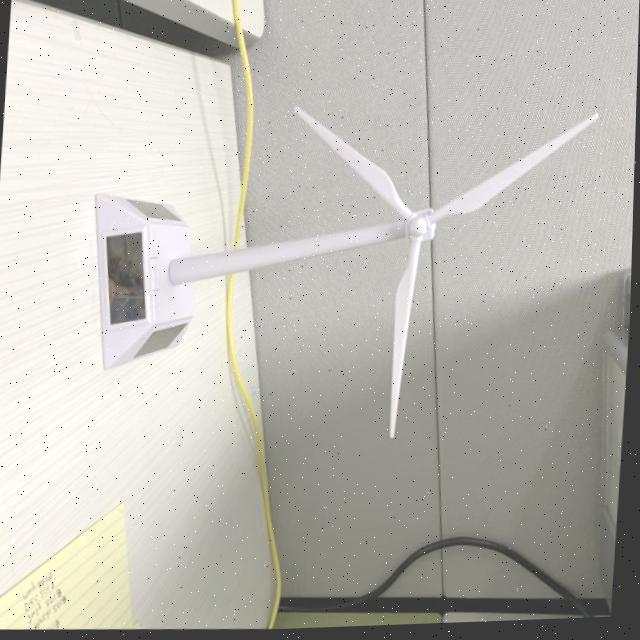solid-blade: (435, 118, 598, 223), (294, 109, 413, 222), (394, 242, 422, 441)
